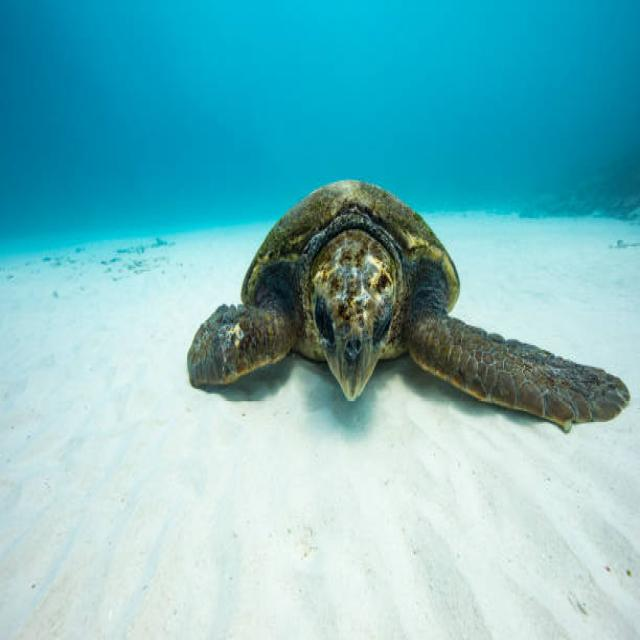sea turtle: (406, 256, 633, 450), (233, 165, 465, 311), (304, 234, 394, 429), (175, 281, 296, 405)
